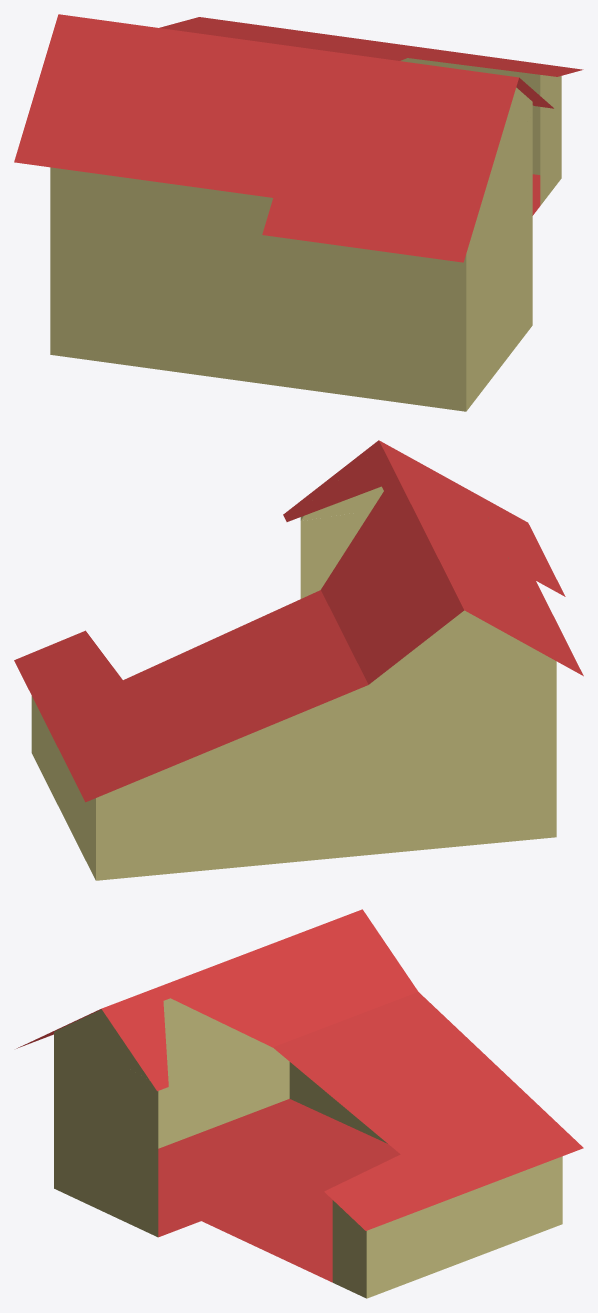
3 views of the same model, one above another, from view 1: azimuth 30°, elevation 25°; view 2: azimuth 150°, elevation 25°; view 3: azimuth 270°, elevation 25° (orthographic). The views are drawn at different scales.
Bounding box in the file's own units: 30.51 × 33.45 × 13.61.
